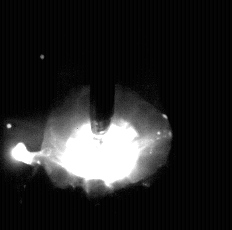arame: (90, 0, 115, 134)
poca: (41, 0, 172, 230)
